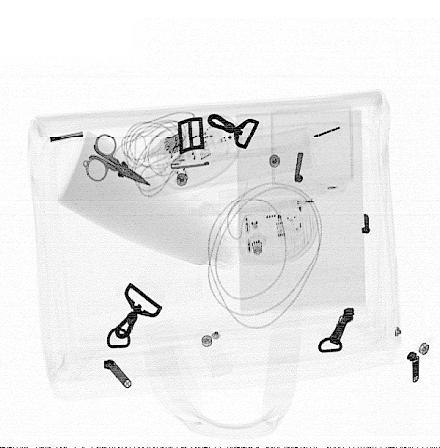Scissors: (83, 132, 153, 186)
